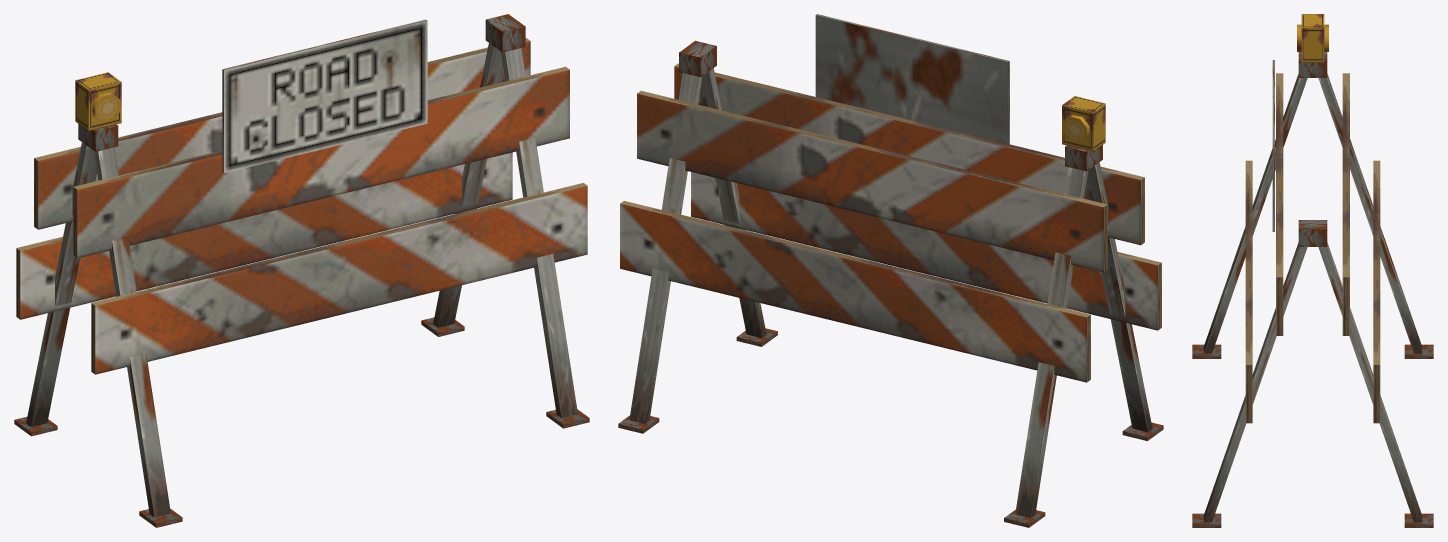
File: road_barrier.obj
3 views of the same model, side by side, from view 1: azimuth 30°, elevation 25°; view 2: azimuth 150°, elevation 25°; view 3: azimuth 270°, elevation 25° (orthographic). The views are drawn at different scales.
Parts seen in each view (by area): view 1: road_barrier; view 2: road_barrier; view 3: road_barrier.
Boxes of the visible parts, x1,y1,x2,y2 form: road_barrier: (14,14,589,527); road_barrier: (618,14,1163,527); road_barrier: (1192,14,1433,527).
Bounding box in the file's own units: 1.5 × 1.15 × 0.75.
2 materials, 2 textured.
